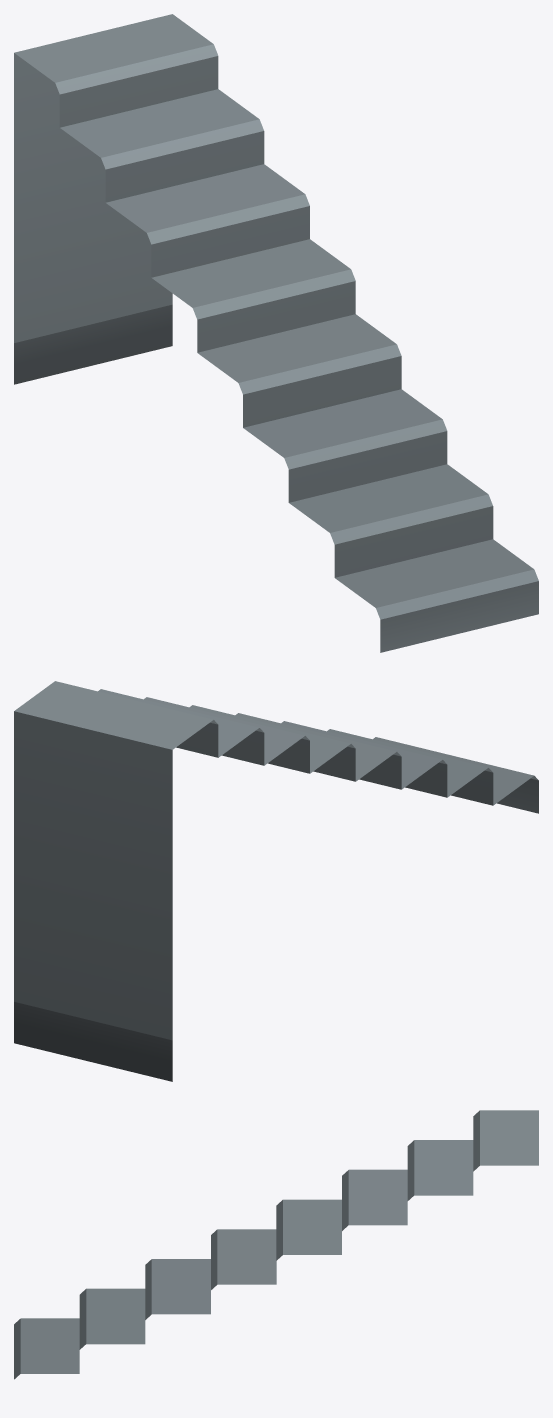
Rendered from stairs_long_modular_center.obj.
3 views of the same model, one above another, from view 1: azimuth 30°, elevation 25°; view 2: azimuth 150°, elevation 25°; view 3: azimuth 270°, elevation 25° (orthographic). The views are drawn at different scales.
Visible parts, largest first — view 1: stairs_long_modular_center; view 2: stairs_long_modular_center; view 3: stairs_long_modular_center.
Boxes of the visible parts, <box> form: stairs_long_modular_center: <box>14,14,538,652</box>; stairs_long_modular_center: <box>14,681,538,1081</box>; stairs_long_modular_center: <box>14,1110,538,1379</box>.
Size of the model in its own units: 2 by 4 by 8.
Materials: 1 (1 with a texture image).
